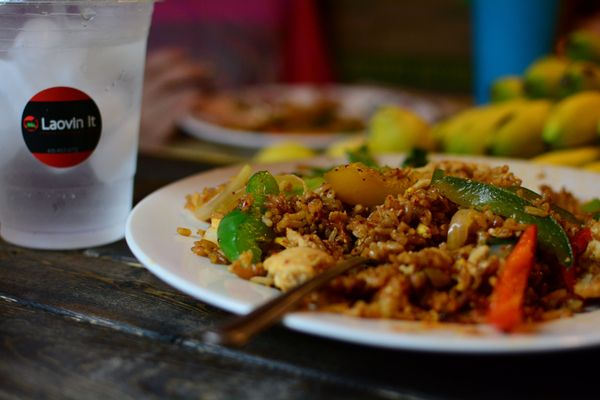pizza: (0, 1, 154, 250)
